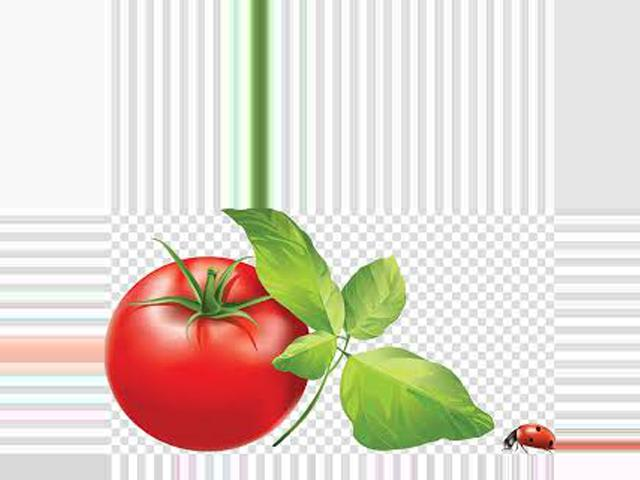tomato: (104, 256, 308, 451)
